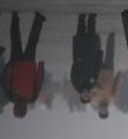person: (4, 11, 45, 119), (70, 13, 103, 104), (92, 32, 124, 119), (44, 76, 60, 110), (118, 69, 128, 115), (63, 78, 75, 114), (38, 83, 48, 111), (75, 98, 88, 112)
